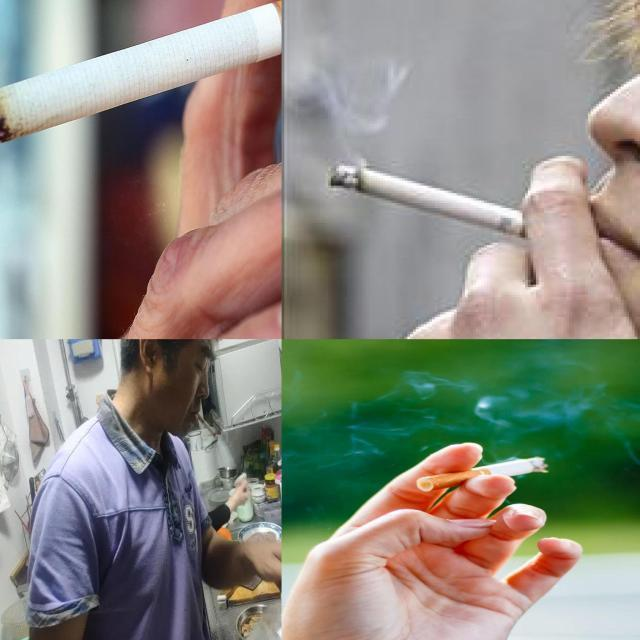rokok: (0, 0, 280, 156), (328, 162, 588, 250), (417, 456, 548, 492), (196, 411, 217, 437)
